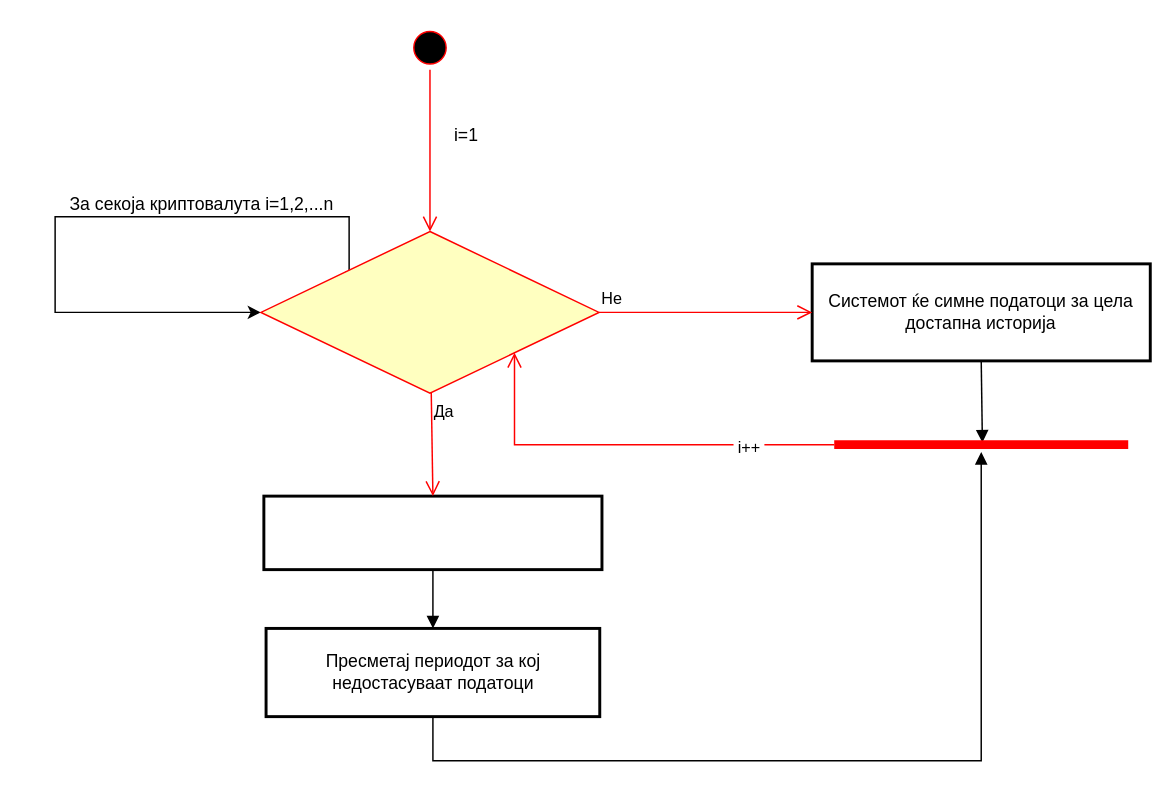
The diagram is 1176 pixels wide and 798 high, and some of its shapes have lost their labels. The centre of each missing label's shape, as x and y in pixels:
Дали постојат записи во базата?: the point at 429,311
Извлечи последен зачуван датум: the point at 432,532
